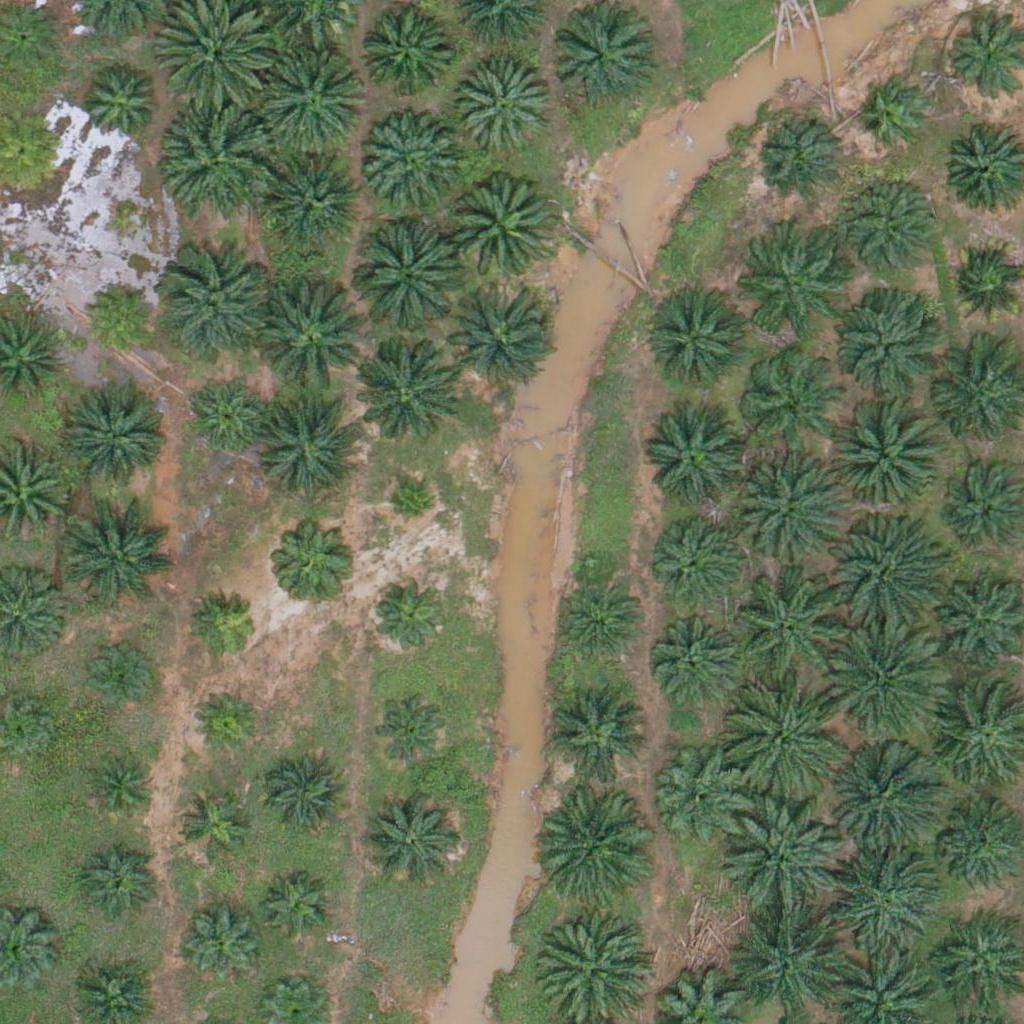Kelapa_Sawit: (539, 786, 652, 900), (723, 803, 836, 916), (535, 910, 648, 1023), (832, 624, 945, 737), (832, 513, 945, 626), (831, 395, 944, 508), (832, 280, 945, 393), (729, 455, 842, 568), (731, 684, 844, 797), (348, 220, 461, 333), (345, 337, 458, 450), (163, 101, 276, 214), (160, 249, 273, 362), (828, 841, 940, 955), (836, 738, 948, 852), (252, 279, 364, 393), (256, 38, 368, 152), (734, 901, 846, 1014), (65, 498, 177, 611), (736, 569, 848, 682), (444, 172, 556, 285), (441, 280, 553, 393), (257, 389, 369, 502), (360, 792, 460, 893), (67, 383, 167, 484), (733, 237, 833, 338), (739, 349, 839, 450), (645, 503, 745, 604), (645, 411, 745, 512), (651, 285, 751, 386), (547, 683, 647, 784), (548, 9, 648, 110), (455, 58, 555, 159), (353, 3, 453, 104), (360, 111, 460, 212), (840, 172, 940, 272), (652, 746, 752, 846), (648, 605, 748, 705), (267, 149, 367, 249), (177, 898, 265, 987), (369, 686, 457, 775), (934, 803, 1022, 891), (75, 842, 163, 930), (184, 375, 272, 463), (755, 113, 843, 201), (269, 512, 357, 600), (263, 751, 351, 839), (367, 568, 454, 656), (554, 571, 641, 659), (74, 60, 161, 148), (81, 277, 156, 353), (84, 639, 159, 715), (858, 79, 933, 155), (82, 751, 157, 827), (189, 589, 264, 664), (174, 789, 249, 864), (262, 873, 337, 948), (189, 685, 264, 760), (386, 483, 436, 533)
